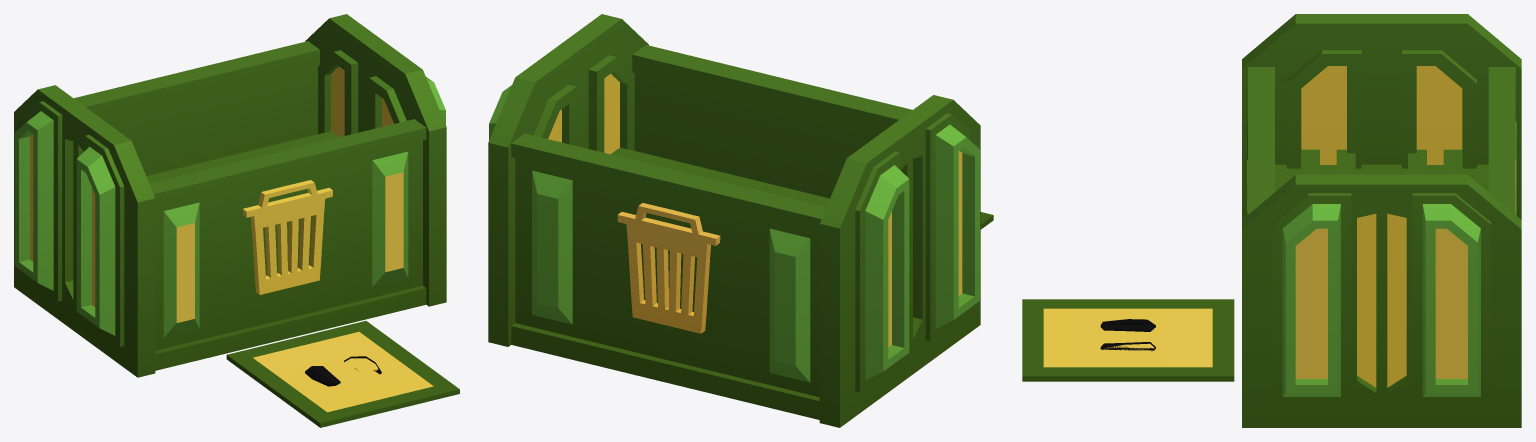
The model's file is trash_box.fbx.
3 views of the same model, side by side, from view 1: azimuth 30°, elevation 25°; view 2: azimuth 150°, elevation 25°; view 3: azimuth 270°, elevation 25° (orthographic). The views are drawn at different scales.
Visible parts, largest first — view 1: trash_box; view 2: trash_box; view 3: trash_box.
Boxes of the visible parts, x1,y1,x2,y2 form: trash_box: (14,14,459,427); trash_box: (488,14,993,427); trash_box: (1022,14,1521,427).
Size of the model in its own units: 153 by 90.81 by 169.
